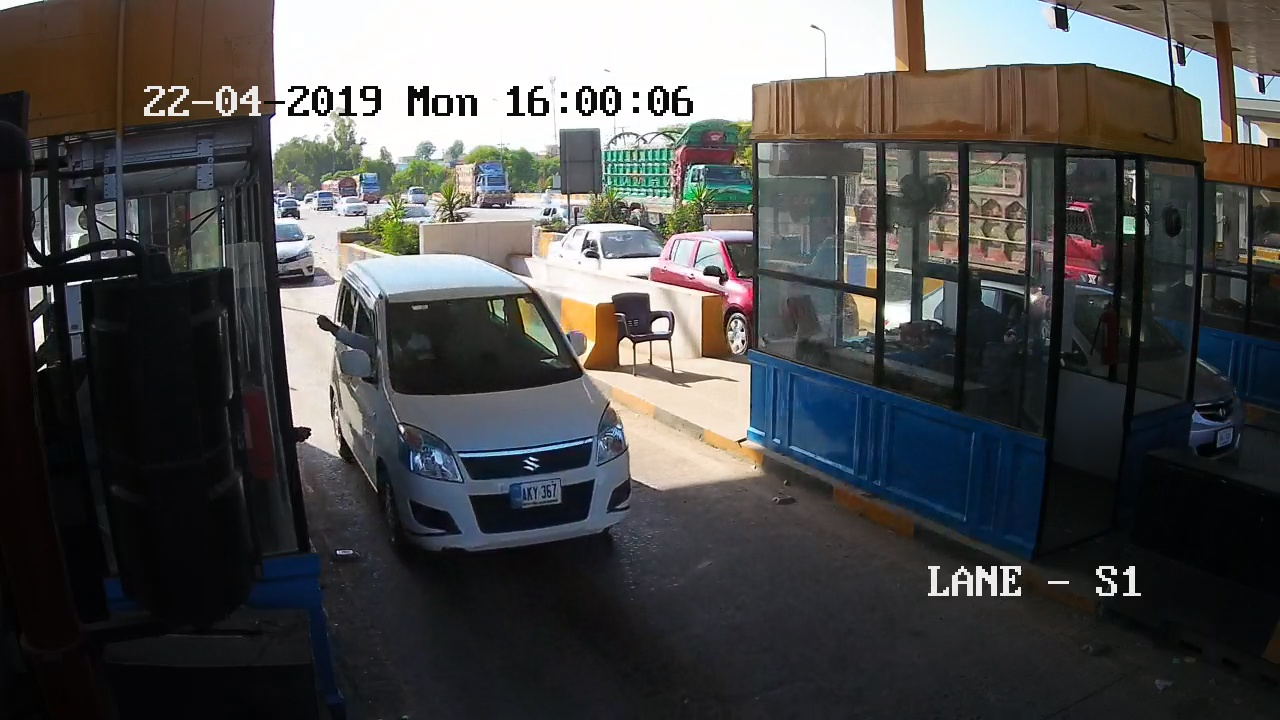car: (329, 250, 656, 570)
